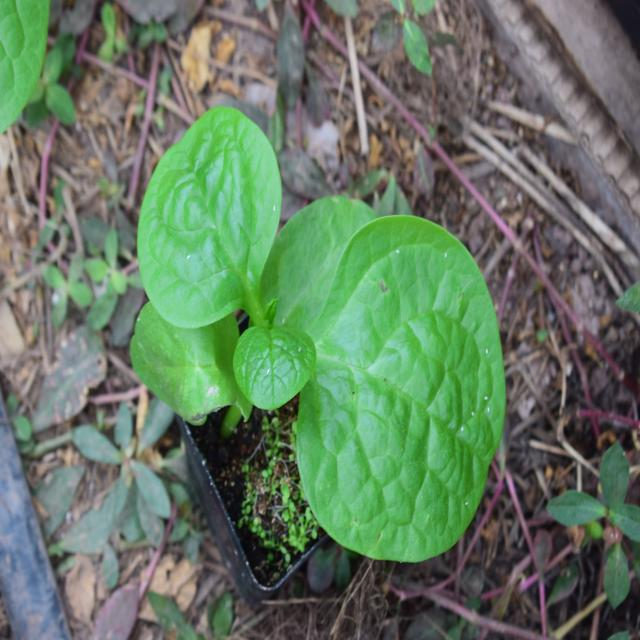Ceylon spinach: (139, 121, 511, 571)
